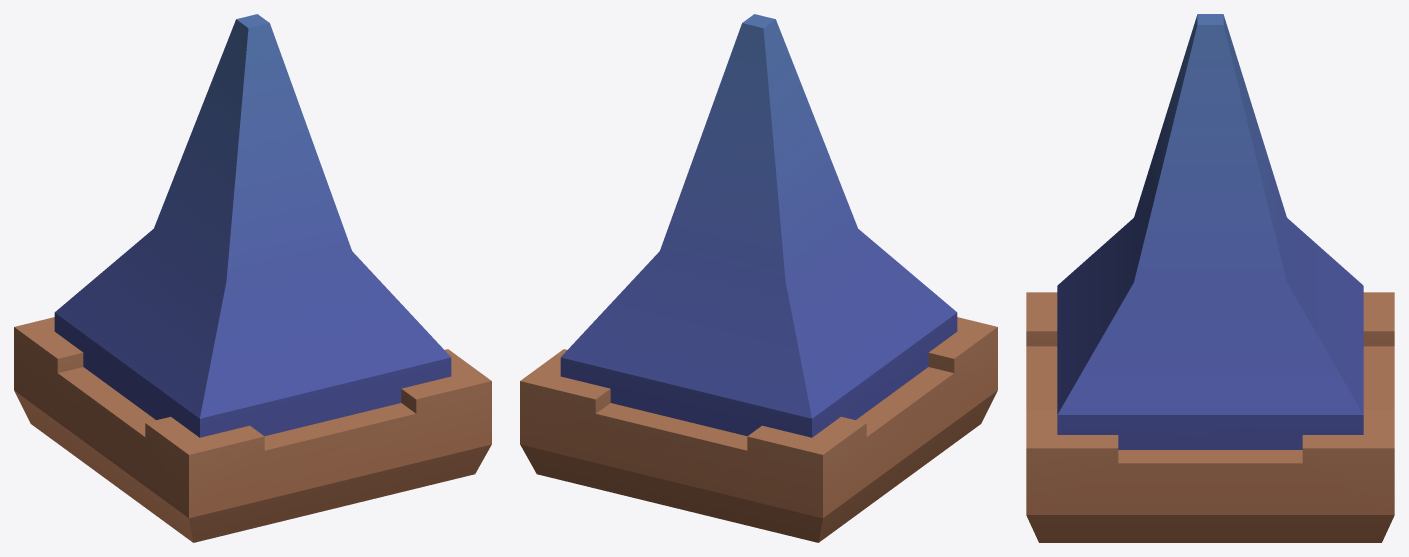
File: tower-square-top-roof-high.glb
3 renders of one model, left to right at view 1: azimuth 30°, elevation 25°; view 2: azimuth 150°, elevation 25°; view 3: azimuth 270°, elevation 25°, orthographic. The views are drawn at different scales.
Visible parts, largest first — view 1: tower-square-top-roof-high; view 2: tower-square-top-roof-high; view 3: tower-square-top-roof-high.
Boxes of the visible parts, x1=… form: tower-square-top-roof-high: x1=14, y1=14, x2=491, y2=542; tower-square-top-roof-high: x1=520, y1=14, x2=997, y2=542; tower-square-top-roof-high: x1=1026, y1=14, x2=1394, y2=542.
Bounding box in the file's own units: 1 × 1.35 × 1.
